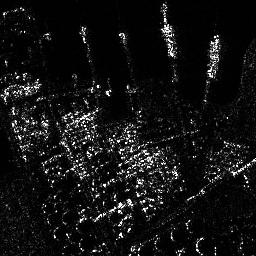ship: (206, 33, 221, 79), (161, 23, 178, 58)
